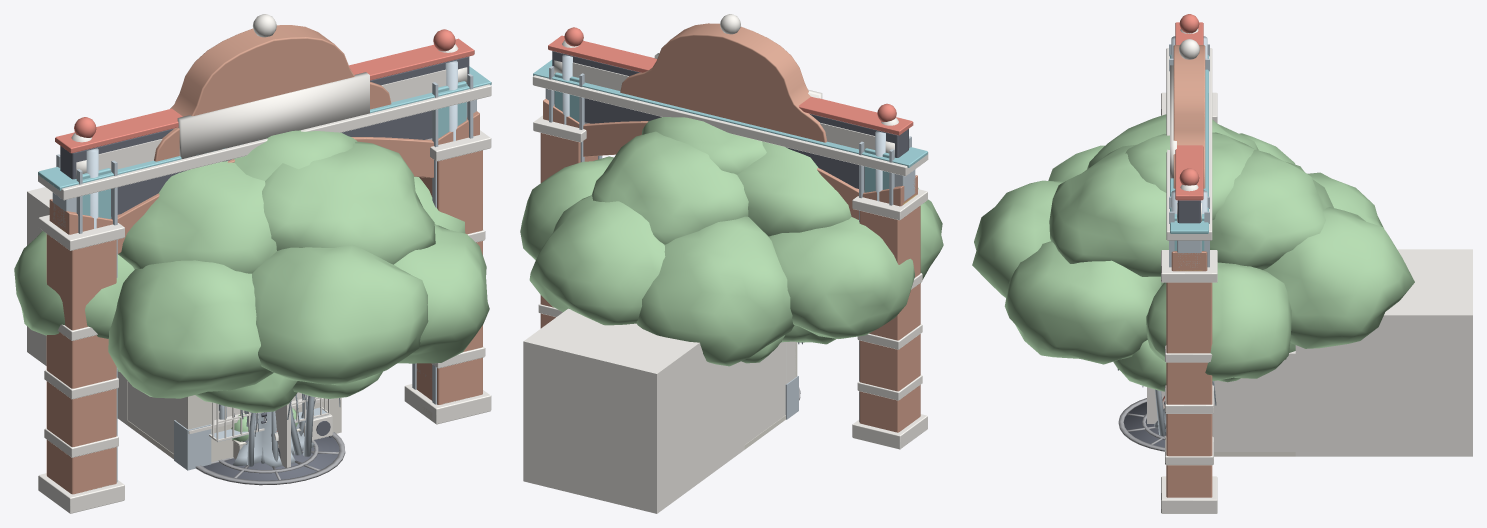
Rendered from bundle-square.glb.
3 renders of one model, left to right at view 1: azimuth 30°, elevation 25°; view 2: azimuth 150°, elevation 25°; view 3: azimuth 270°, elevation 25°, orthographic. The views are drawn at different scales.
Visible parts, largest first — view 1: banyanL, dadao, ximen, xinyi, storey, banyanM, ground, roof, vsign; view 2: banyanL, ground, dadao, storey, ximen, xinyi, banyanM; view 3: banyanL, ground, dadao, storey, ximen, xinyi, banyanM.
Boxes of the visible parts, <box> form: banyanL: <box>14,130,489,485</box>; dadao: <box>38,14,491,513</box>; ximen: <box>55,29,474,491</box>; xinyi: <box>38,66,491,482</box>; storey: <box>128,381,341,458</box>; banyanM: <box>117,369,382,473</box>; ground: <box>27,187,341,470</box>; roof: <box>188,397,341,458</box>; vsign: <box>275,403,290,467</box>; banyanL: <box>520,117,943,400</box>; ground: <box>523,308,798,513</box>; dadao: <box>532,14,928,449</box>; storey: <box>523,342,797,512</box>; ximen: <box>548,27,913,201</box>; xinyi: <box>533,60,927,421</box>; banyanM: <box>741,325,836,363</box>; banyanL: <box>972,114,1414,451</box>; ground: <box>1214,249,1472,456</box>; dadao: <box>1161,29,1217,513</box>; storey: <box>1212,351,1295,451</box>; ximen: <box>1171,14,1207,223</box>; xinyi: <box>1169,44,1209,270</box>; banyanM: <box>1113,282,1295,439</box>.
Bounding box in the file's own units: 12.42 × 12.07 × 14.14.
